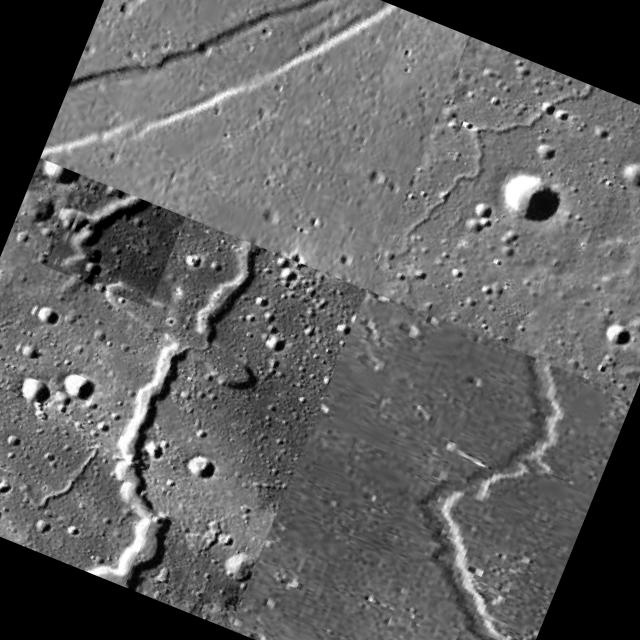crater: (44, 0, 471, 288), (341, 334, 634, 640), (370, 36, 640, 357), (308, 290, 634, 548), (68, 223, 287, 594), (42, 173, 186, 307)
